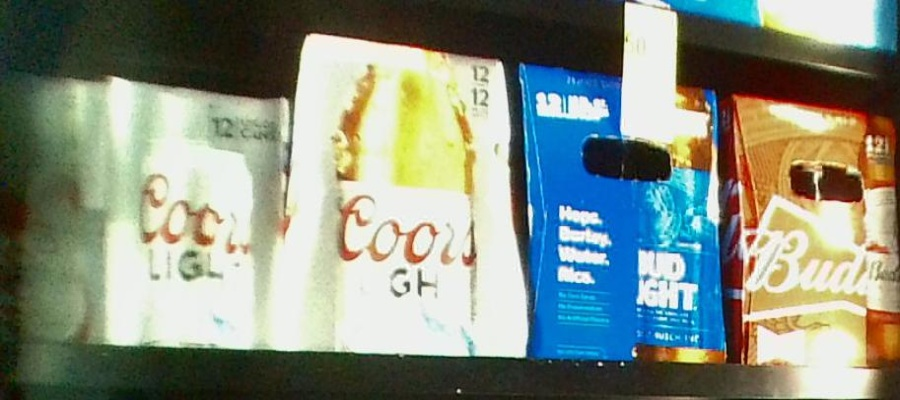bottle: (290, 35, 521, 358), (519, 65, 722, 359), (100, 78, 283, 345), (727, 94, 900, 367), (1, 70, 99, 342)
